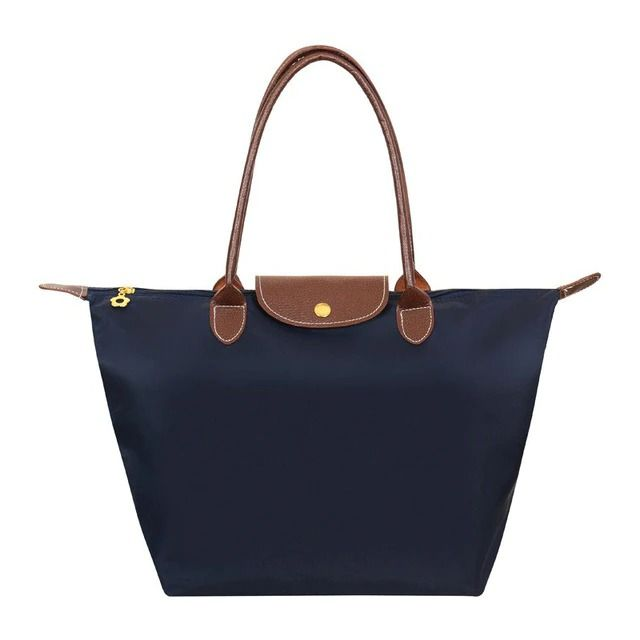nylon: (84, 287, 559, 598)
